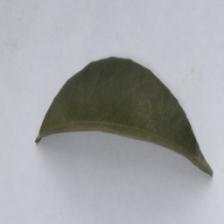healthy: (32, 52, 217, 188)
